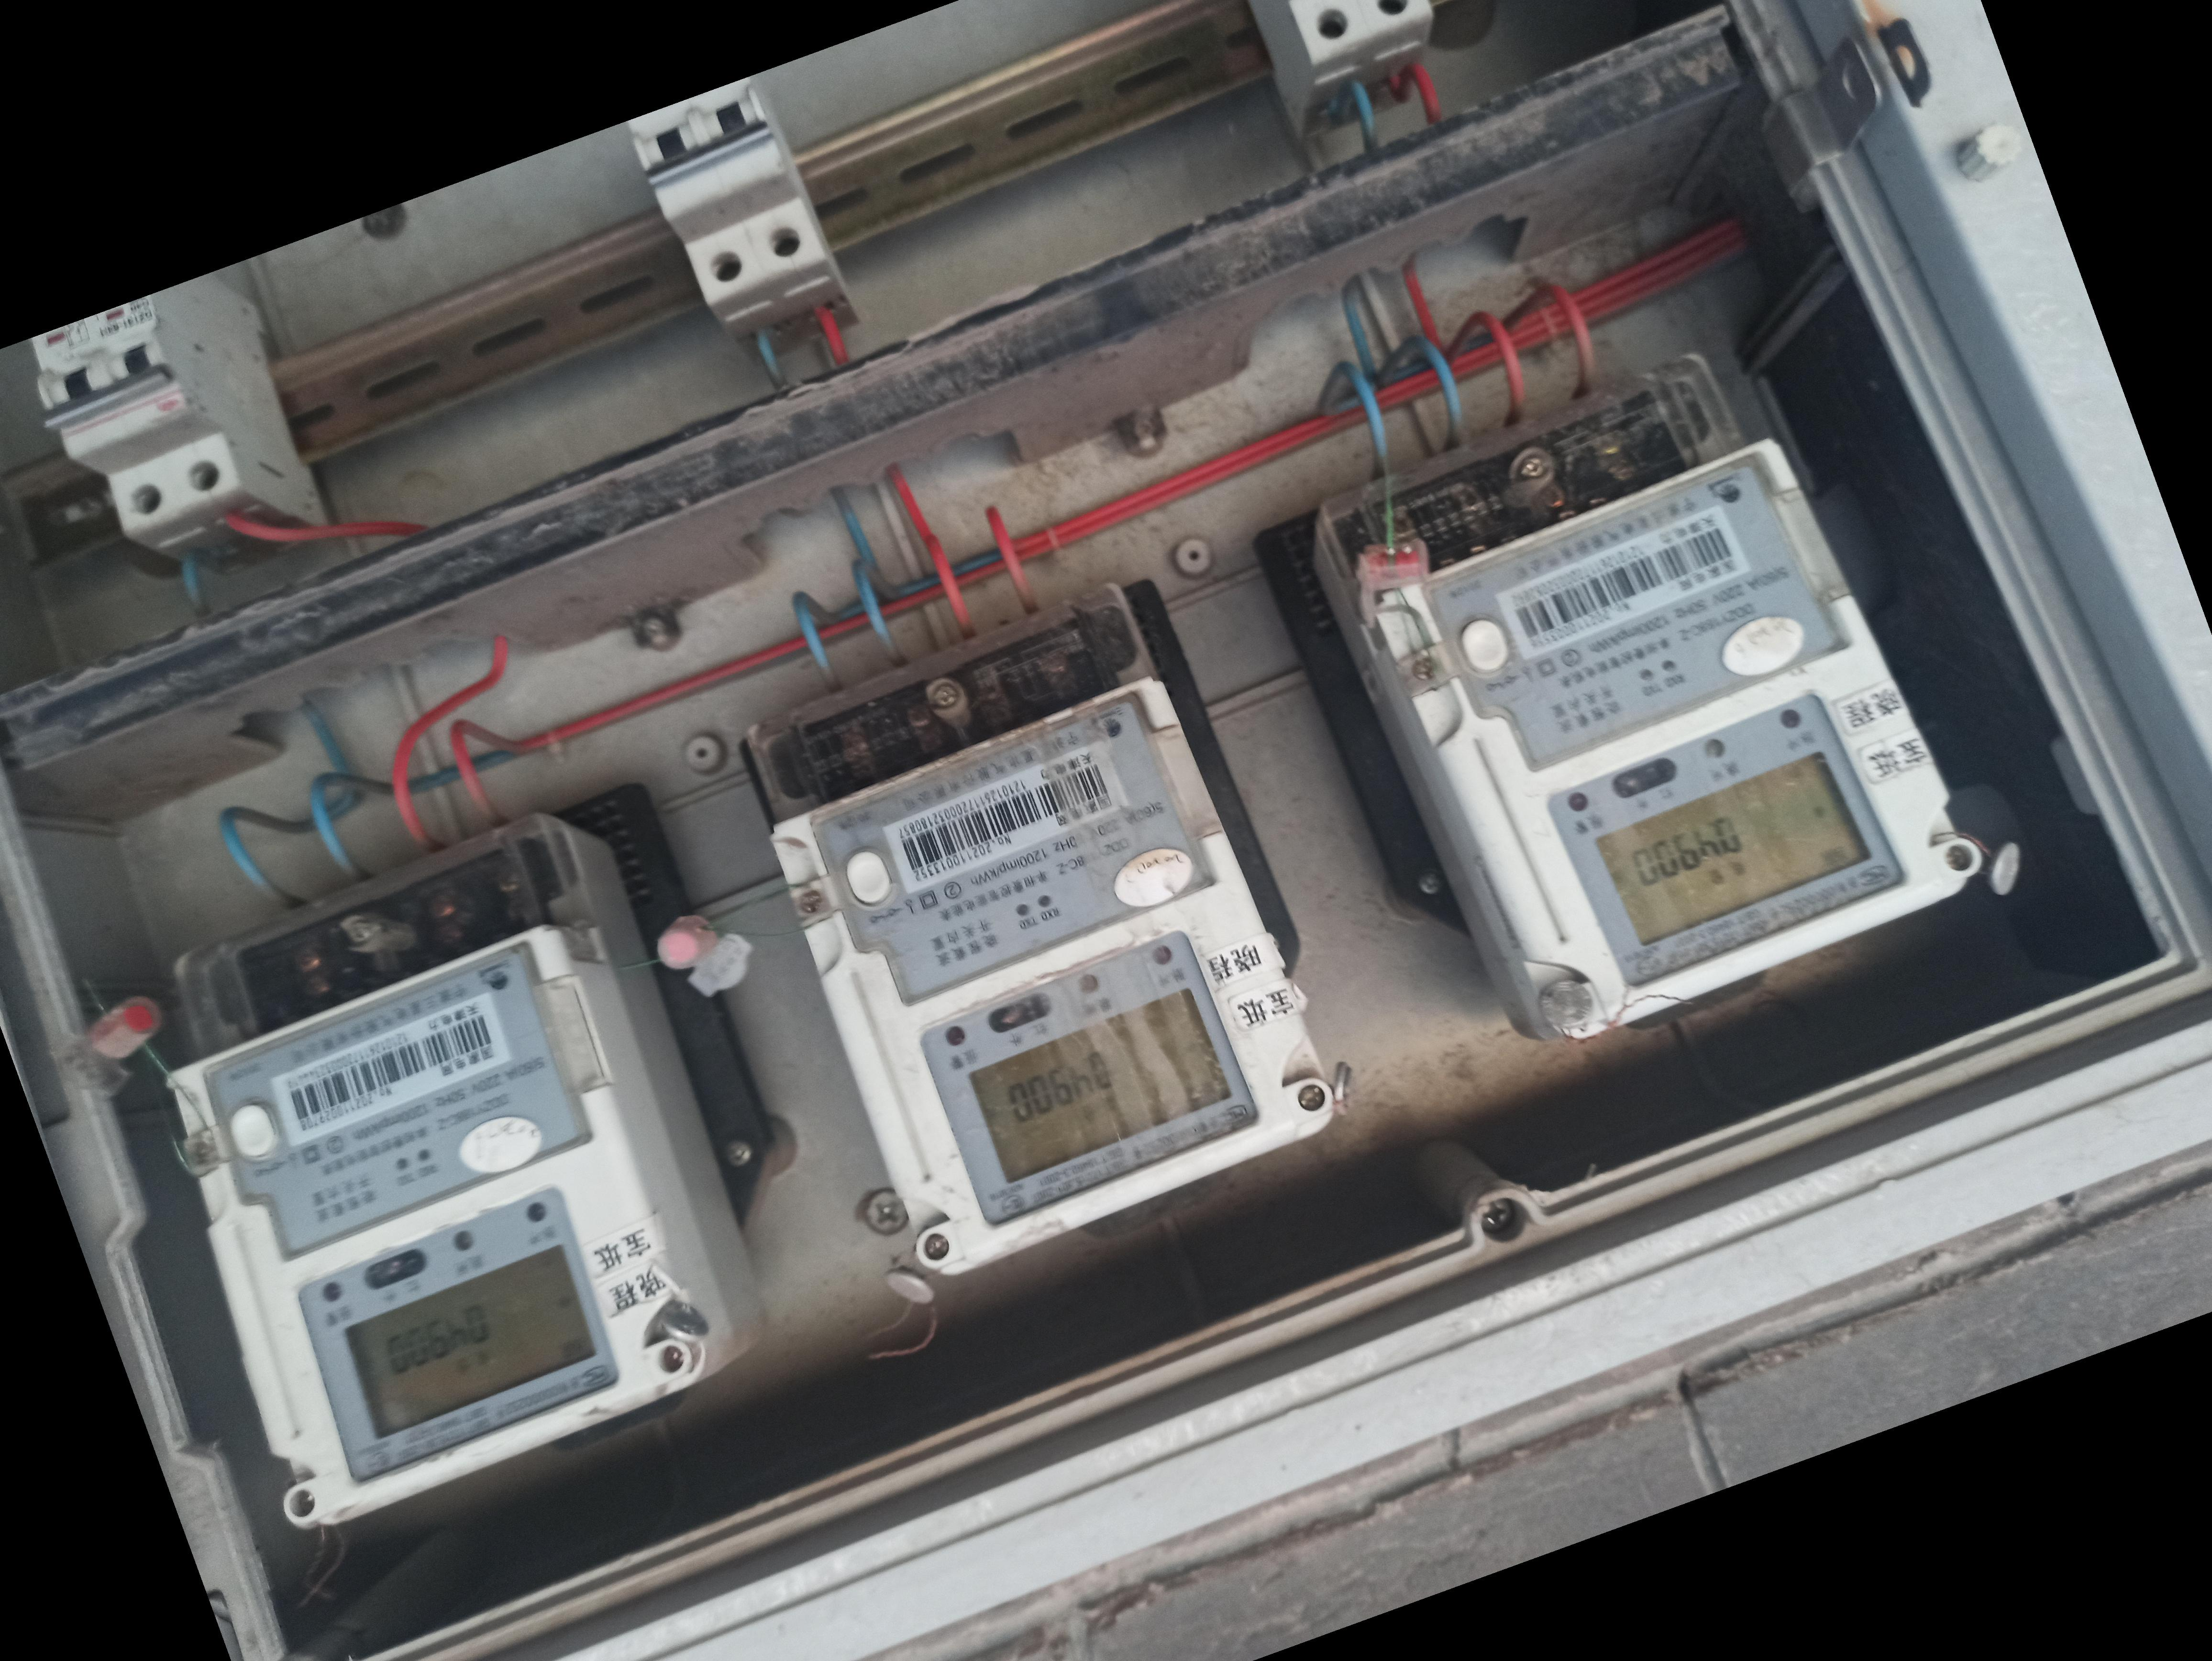digital: (1368, 434, 1970, 1022), (769, 679, 1324, 1258), (167, 923, 693, 1513)
